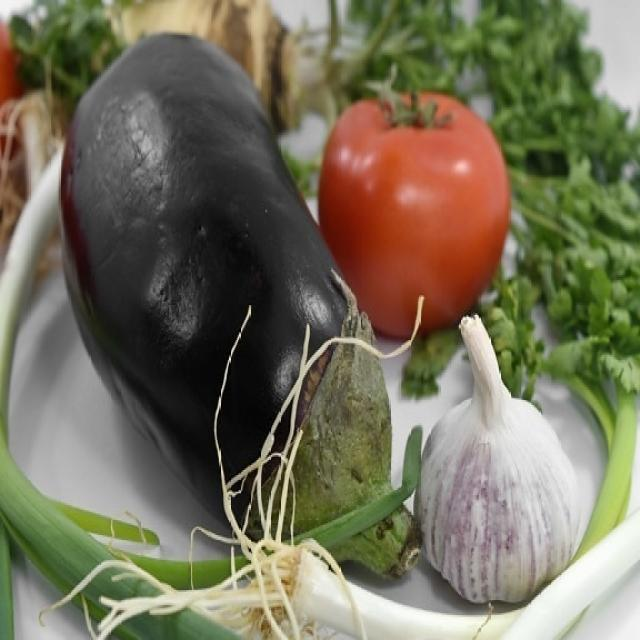eggplant: (62, 34, 415, 587)
garlic: (421, 344, 581, 598)
tomato: (320, 72, 516, 338)
